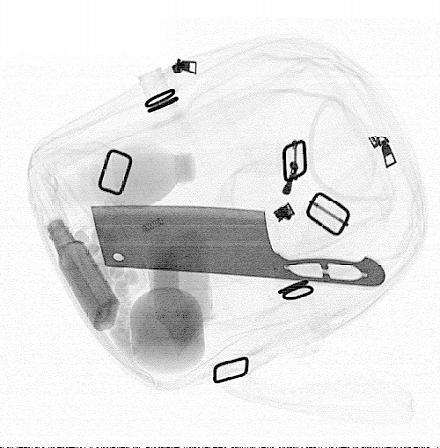Knife: (89, 205, 385, 287)
